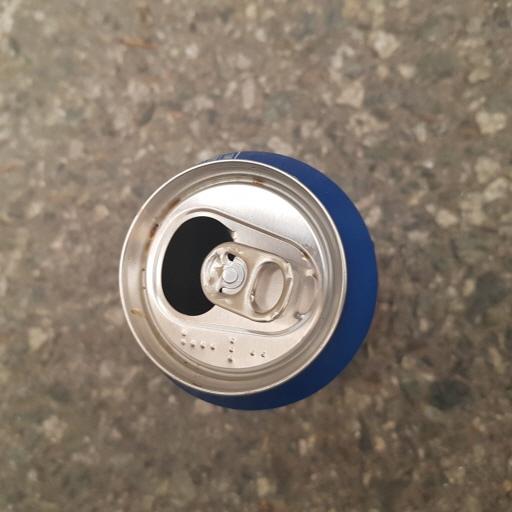Metal_0: (118, 148, 384, 411)
